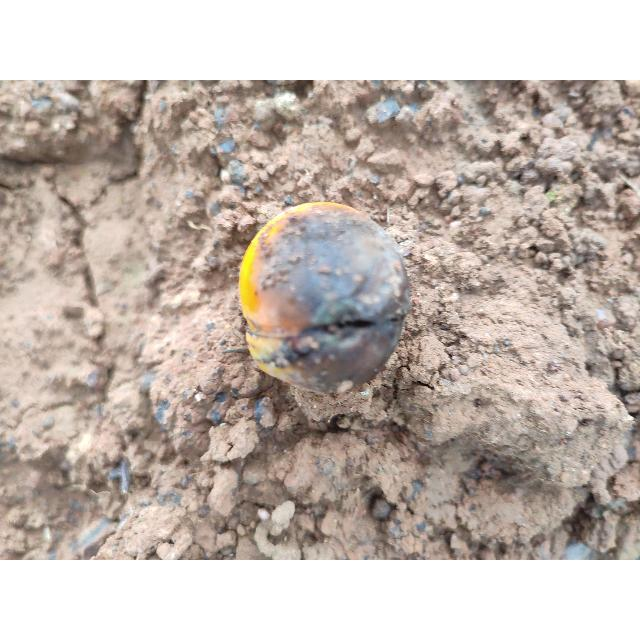damaged: (237, 202, 412, 396)
